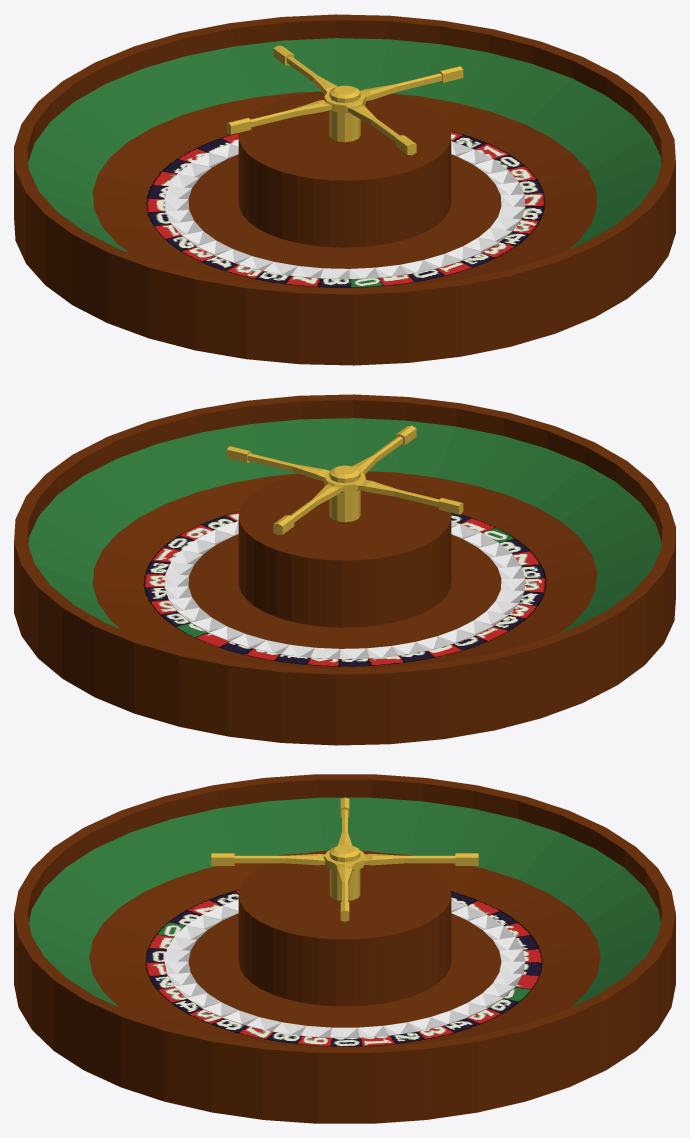
Rendered from roulettewheel.fbx.
The picture shows the model from 3 angles, top to bottom: view 1: azimuth 30°, elevation 25°; view 2: azimuth 150°, elevation 25°; view 3: azimuth 270°, elevation 25°; orthographic projection.
Visible parts, largest first — view 1: Cylinder, Cylinder.001, Cylinder.002; view 2: Cylinder, Cylinder.001, Cylinder.002; view 3: Cylinder, Cylinder.001, Cylinder.002.
Boxes of the visible parts, x1,y1,x2,y2 form: Cylinder: (14,14,675,365); Cylinder.001: (146,92,544,287); Cylinder.002: (226,45,463,155); Cylinder: (14,394,675,745); Cylinder.001: (143,472,546,666); Cylinder.002: (226,425,463,535); Cylinder: (14,774,675,1123); Cylinder.001: (145,850,542,1046); Cylinder.002: (211,797,478,921).
Bounding box in the file's own units: 621 × 148 × 623.
